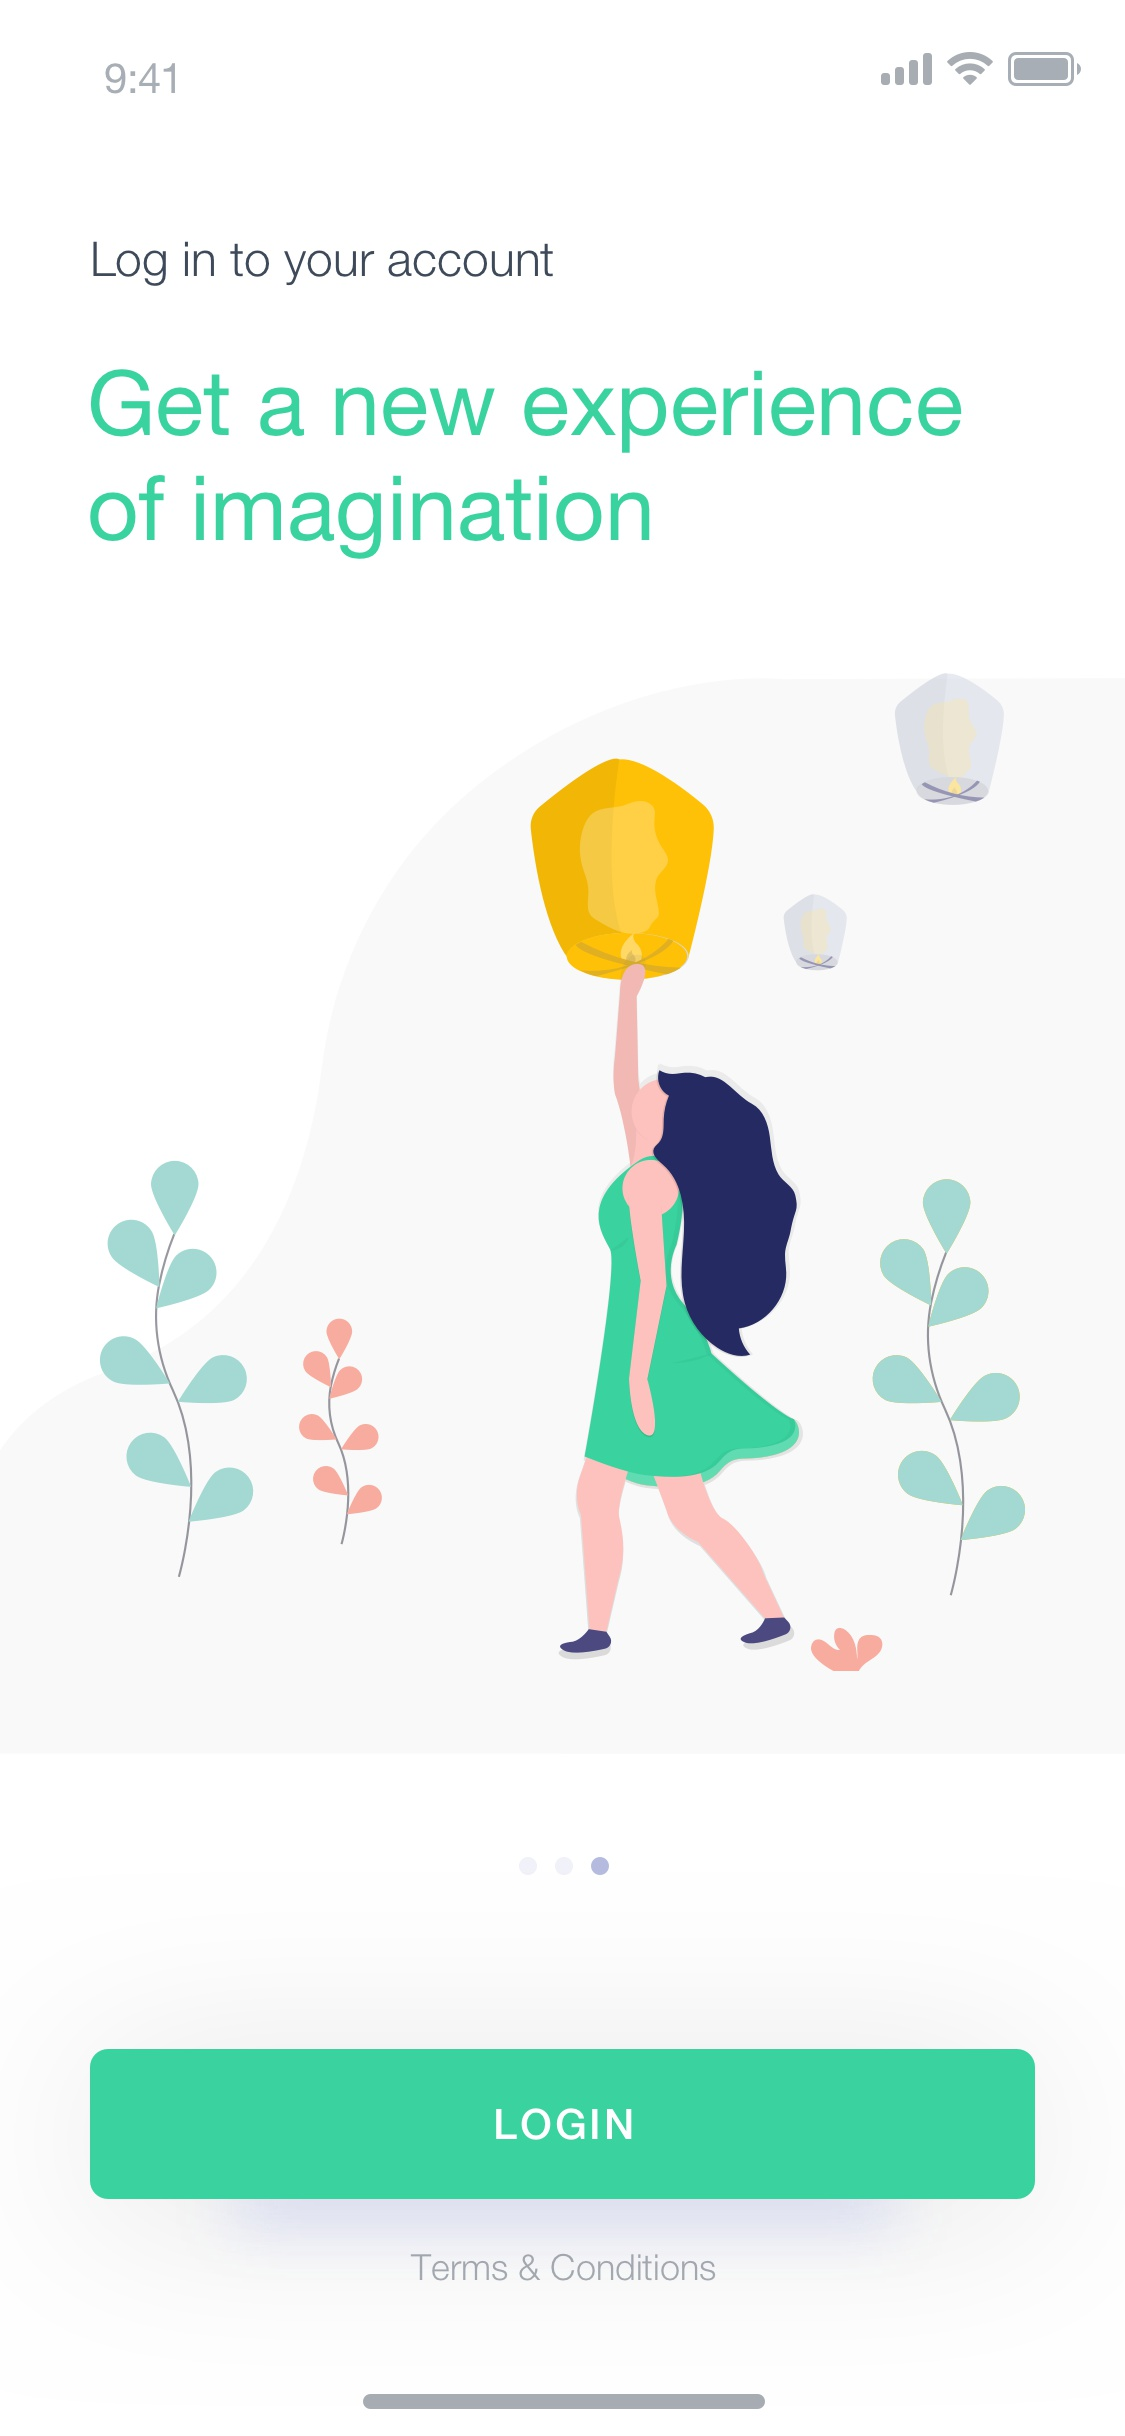Image: (92, 670, 1036, 1684)
PageIndicator: (517, 1855, 612, 1877)
Text: (90, 368, 963, 561), (92, 239, 555, 287), (410, 2253, 716, 2282)
TextButton: (90, 2048, 1036, 2200)
UpperTaskBar: (104, 51, 1083, 96)
